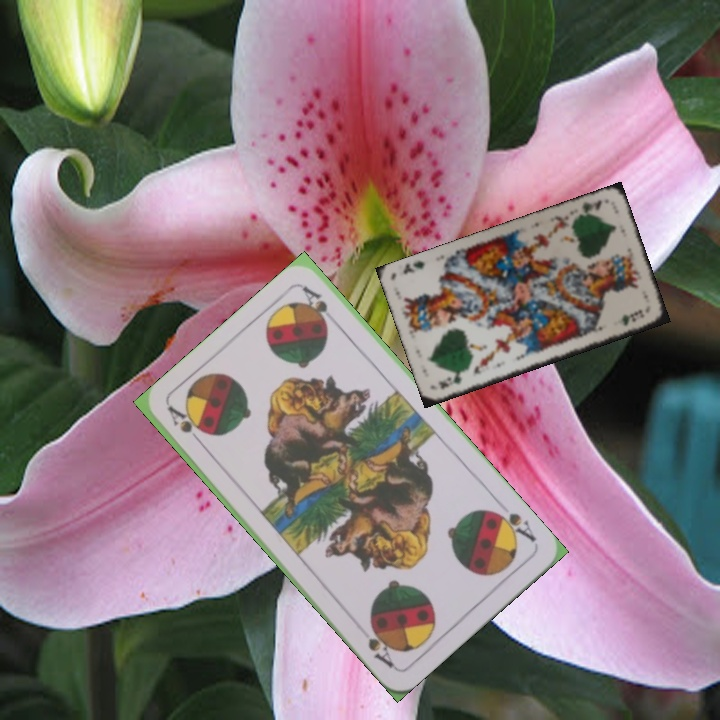GK: (434, 370, 465, 393), (578, 195, 605, 215)
SA: (163, 402, 208, 451), (487, 506, 539, 545)
